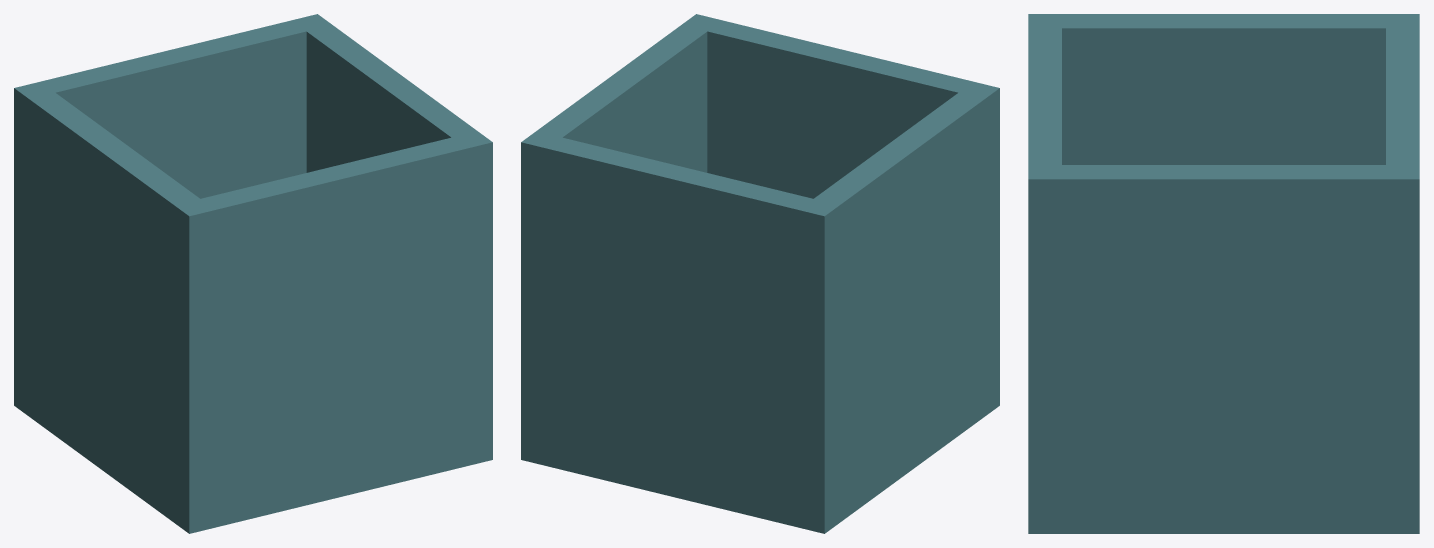
3 views of the same model, side by side, from view 1: azimuth 30°, elevation 25°; view 2: azimuth 150°, elevation 25°; view 3: azimuth 270°, elevation 25° (orthographic). The views are drawn at different scales.
Parts seen in each view (by area): view 1: Cube; view 2: Cube; view 3: Cube.
Boxes of the visible parts, x1,y1,x2,y2 form: Cube: [14, 14, 492, 533]; Cube: [521, 14, 999, 533]; Cube: [1028, 14, 1419, 533].
Bounding box in the file's own units: 200 × 200 × 200.
